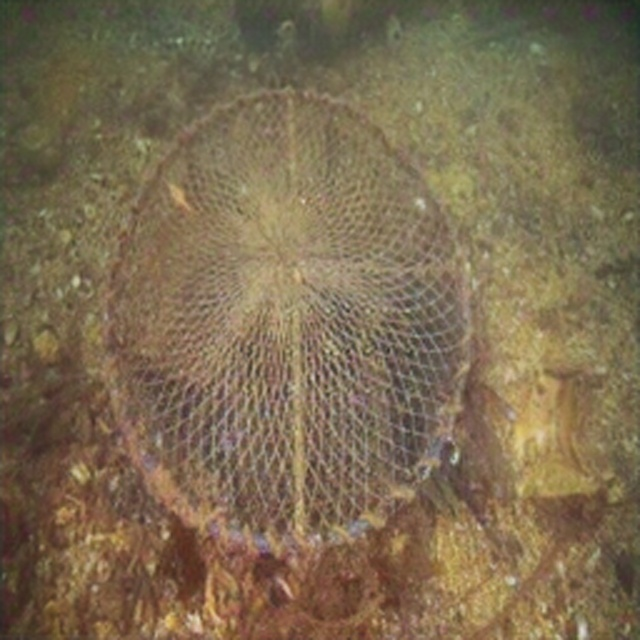mine: (103, 88, 472, 551)
